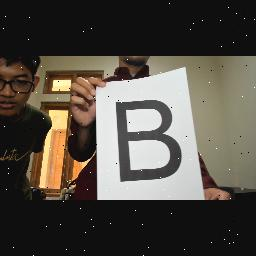b: (112, 96, 188, 186)
